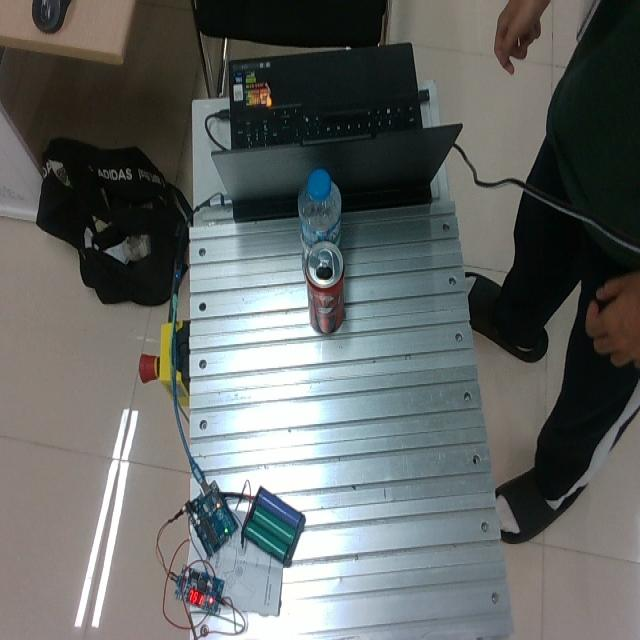coca: (303, 240, 346, 335)
lavie: (297, 167, 342, 270)
